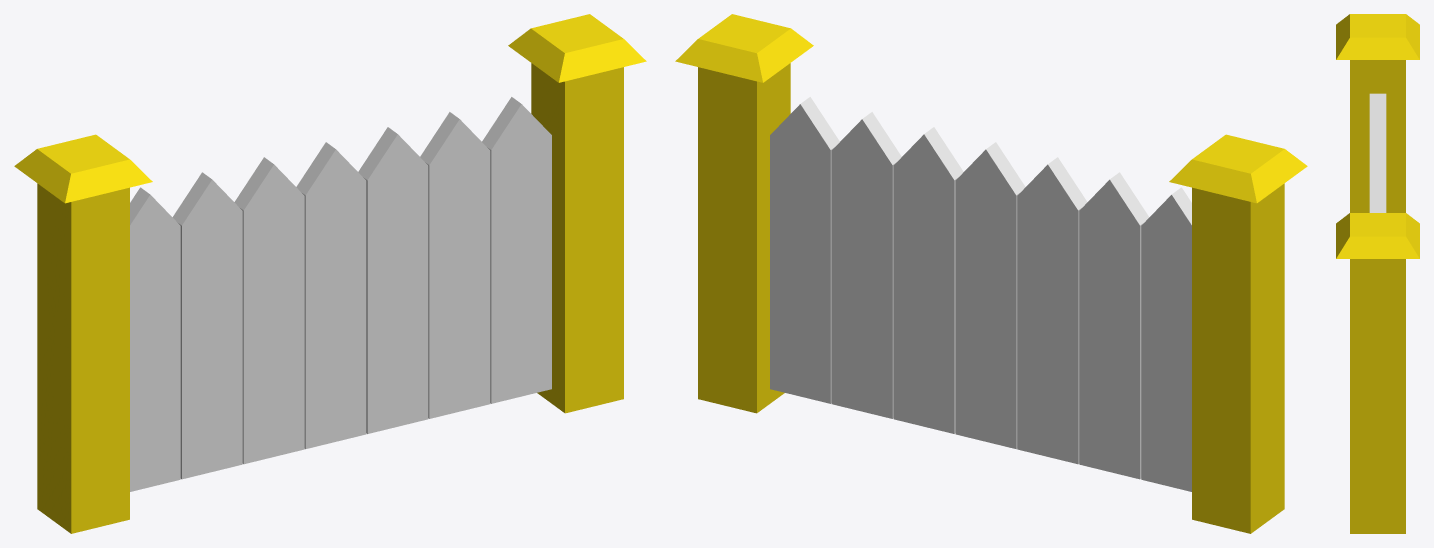
File: Fence_wall_2.FBX
The picture shows the model from 3 angles, left to right: view 1: azimuth 30°, elevation 25°; view 2: azimuth 150°, elevation 25°; view 3: azimuth 270°, elevation 25°; orthographic projection. The views are drawn at different scales.
Parts seen in each view (by area): view 1: Fence_wall_2; view 2: Fence_wall_2; view 3: Fence_wall_2.
Part boxes in pixels (bbox=[...]): Fence_wall_2: bbox=[14, 14, 646, 533]; Fence_wall_2: bbox=[675, 14, 1307, 533]; Fence_wall_2: bbox=[1336, 14, 1419, 533].
Size of the model in its own units: 1.46 by 0.8655 by 0.2213.
Materials: 1 (1 with a texture image).
